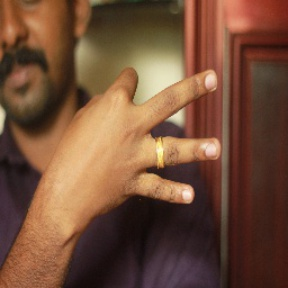K: (45, 66, 220, 208)
